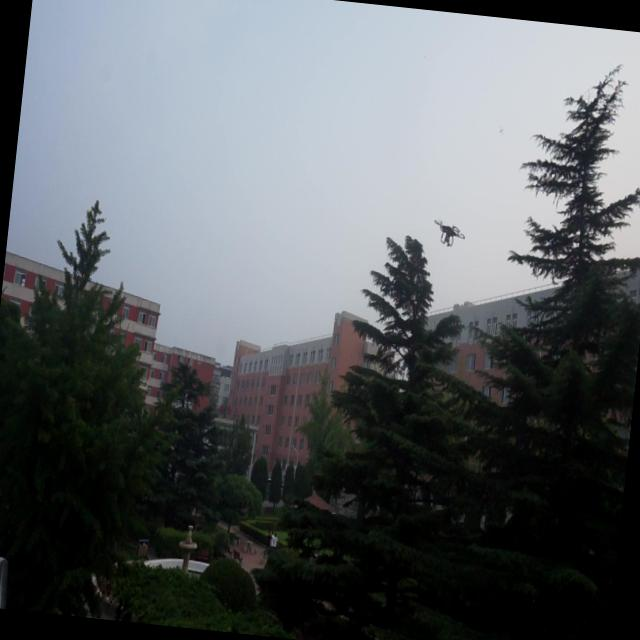drone: (429, 214, 468, 251)
